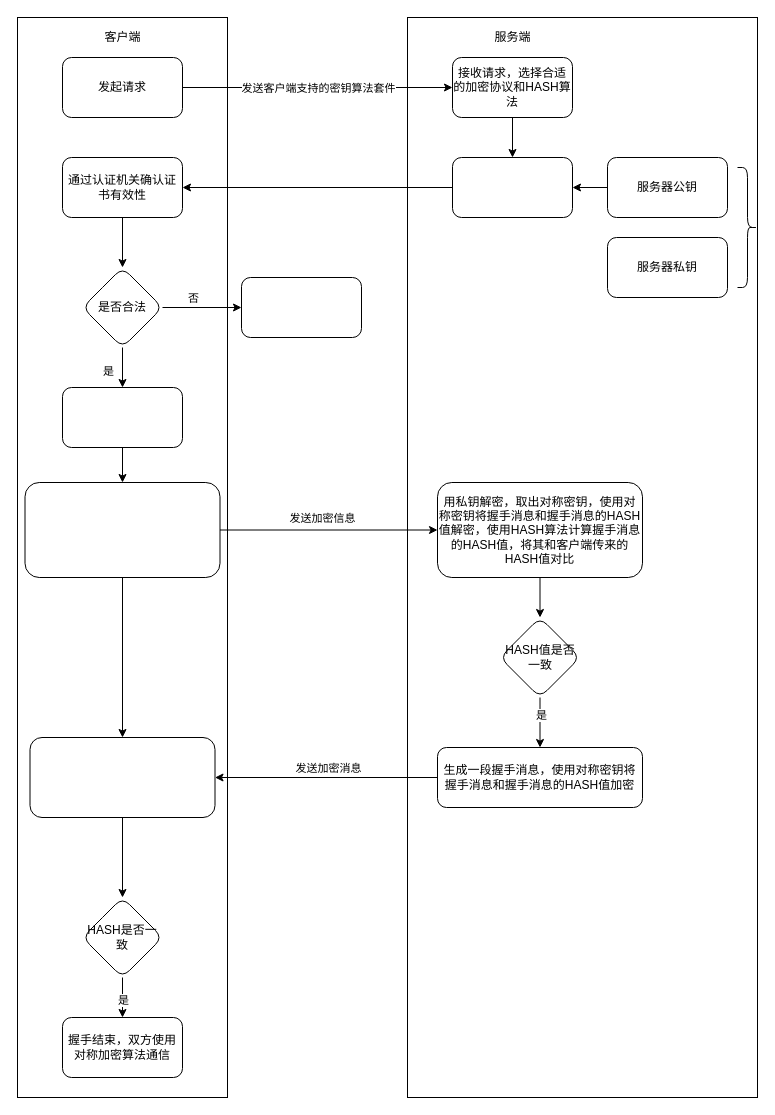
The diagram is 775 pixels wide and 1115 high, and some of its shapes have lost their labels. Here are the shapes that lost their labels. From the top down, the centre of each, then its label:
At [512,187]: "返回证书（含公钥，加密算法，HASH算法，颁证机构等）".
At [301,307]: "警告".
At [122,417]: "取出公钥，HASH算法".
At [122,530]: "生成对称密钥，一段握手消息，计算握手消息的HASH值，用对称密钥将握手消息和握手消息HASH值加密，再将他和对称密钥用服务器公钥加密".
At [122,777]: "使用对称密钥解密握手消息和握手消息的HASH值，计算握手消息的HASH值，将其与服务器传来的HASH值对比".
